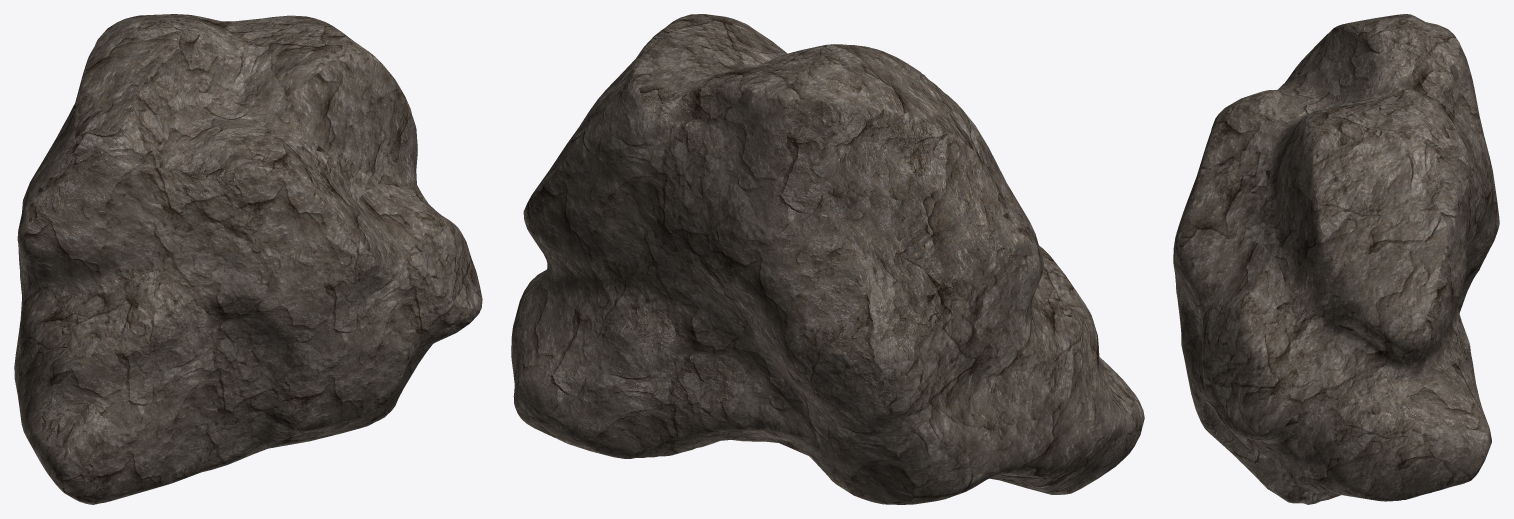
The model's file is rock7.glb.
The picture shows the model from 3 angles, left to right: view 1: azimuth 30°, elevation 25°; view 2: azimuth 150°, elevation 25°; view 3: azimuth 270°, elevation 25°; orthographic projection. The views are drawn at different scales.
Visible parts, largest first — view 1: rock7.001; view 2: rock7.001; view 3: rock7.001.
Part boxes in pixels (box(x1,y1,x2,y2)): rock7.001: box(14, 14, 482, 504); rock7.001: box(511, 14, 1144, 504); rock7.001: box(1173, 14, 1499, 504).
Size of the model in its own units: 14.43 by 11.89 by 8.87.
Materials: 1 (1 with a texture image).
